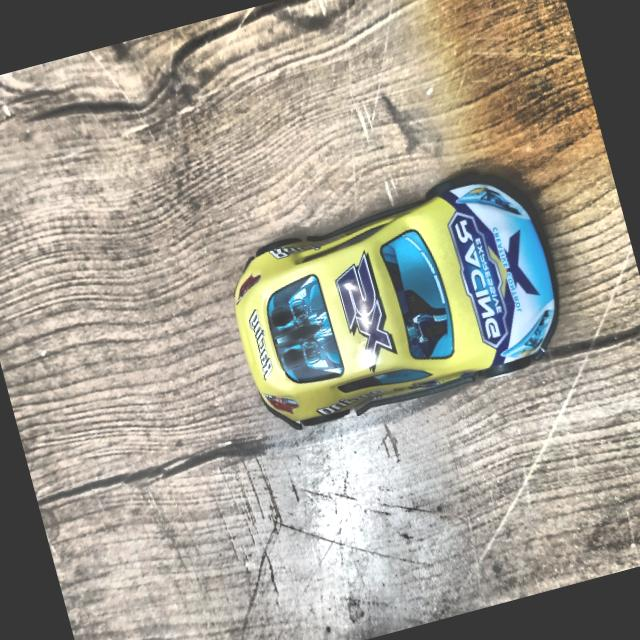Car: (217, 168, 574, 436)
